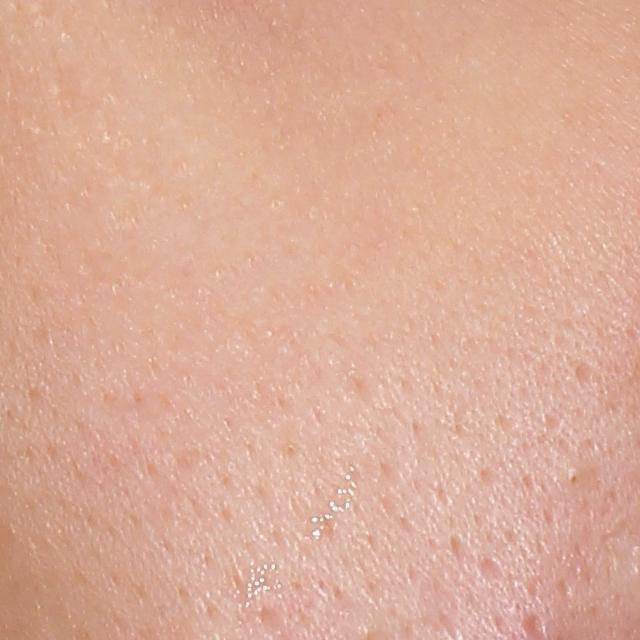atrophic_scar: (570, 356, 597, 383)
comedo: (564, 465, 583, 492)
